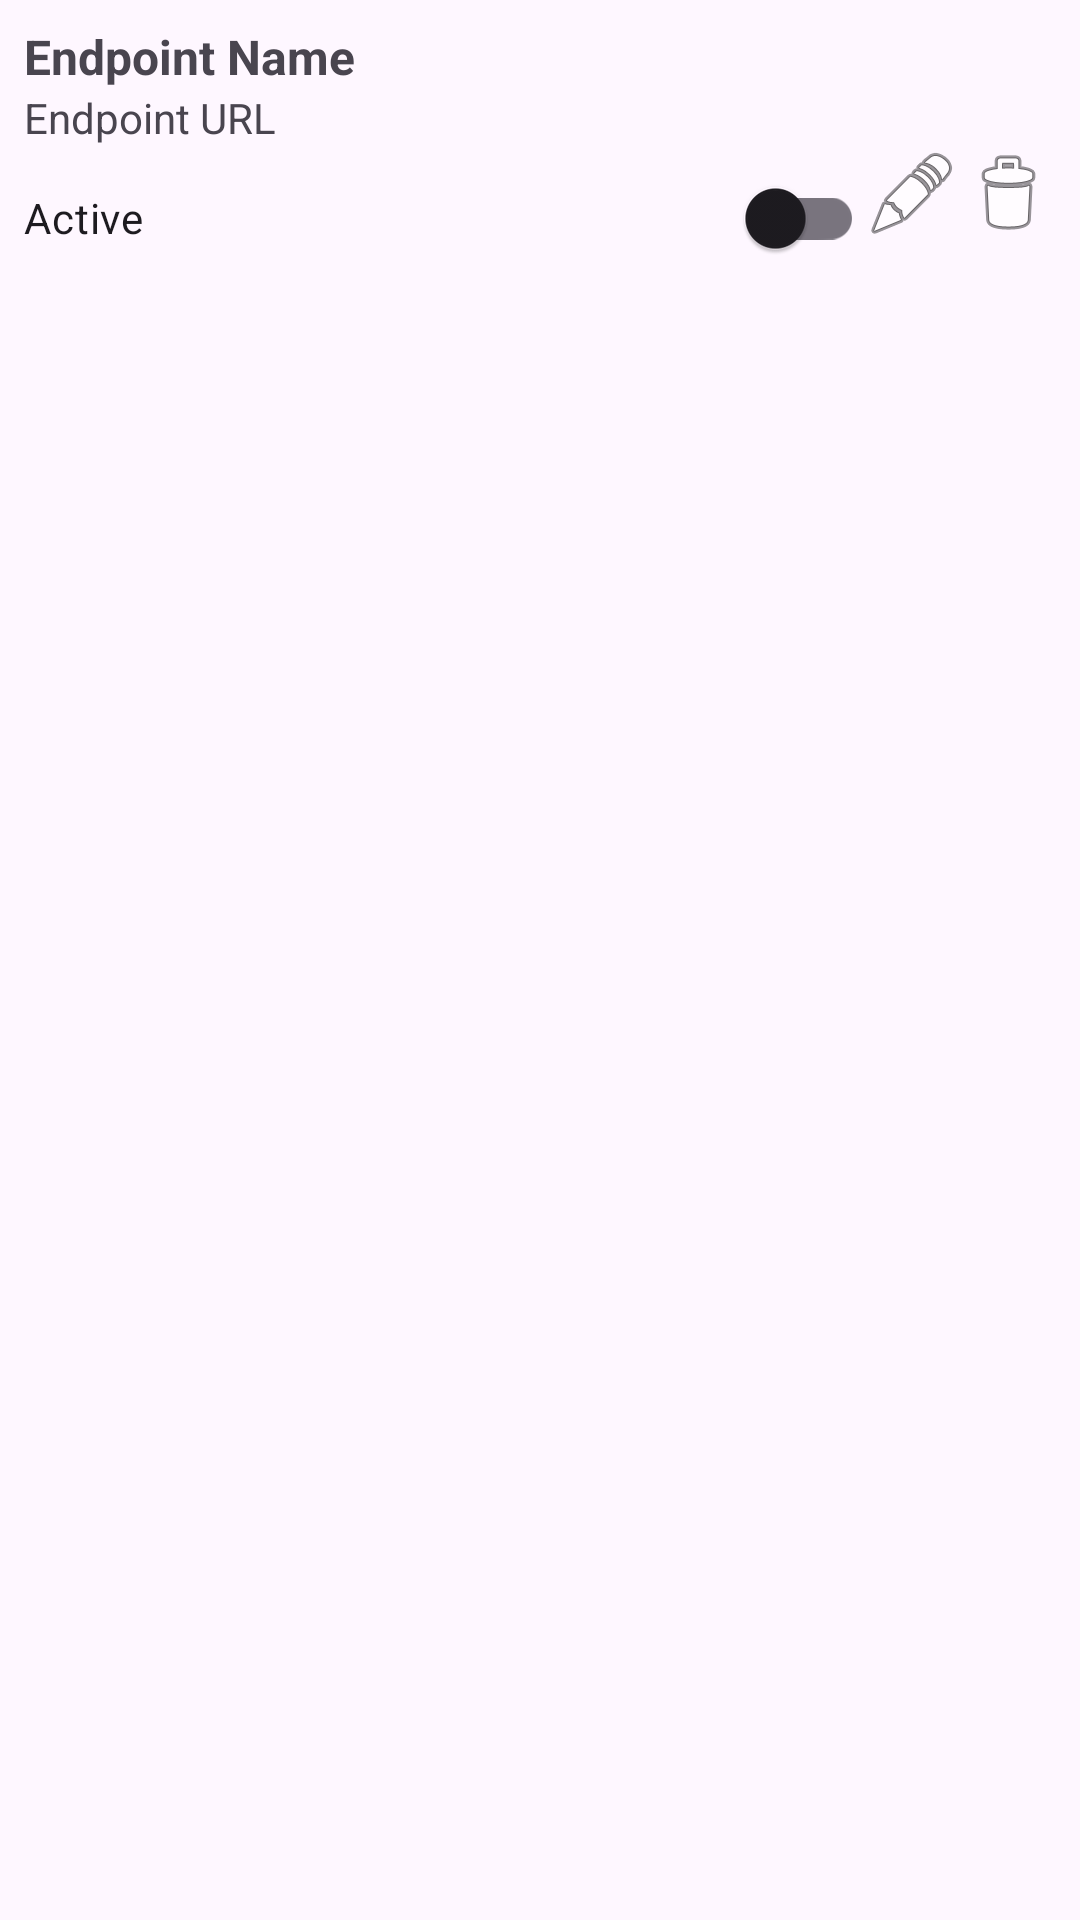

Icon bounding boxes for this 1080px×1920px phone screenshot, format (x1, y1, x2, y2):
delete: (981, 155, 1036, 230)
edit: (871, 153, 952, 234)
